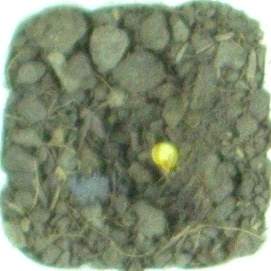pepper seed: (60, 54, 240, 228)
